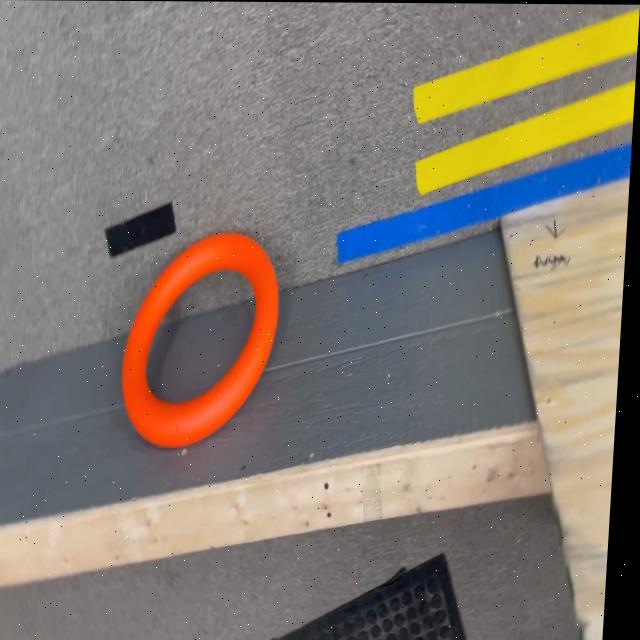note: (122, 232, 287, 448)
